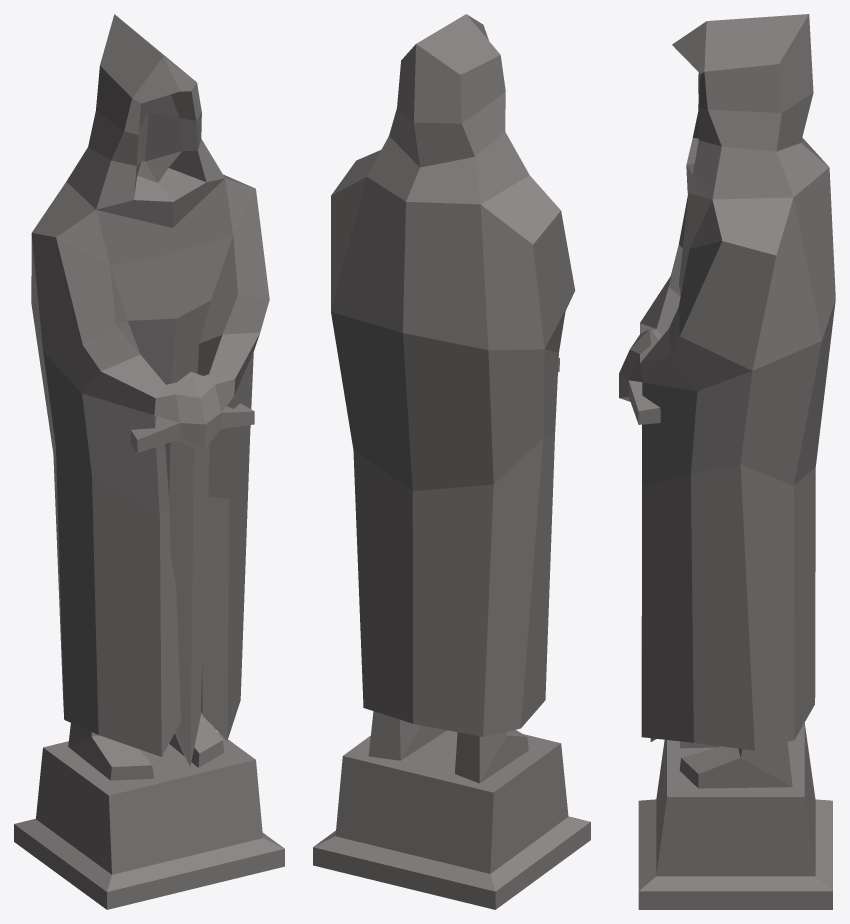
File: statue-knight.glb
3 renders of one model, left to right at view 1: azimuth 30°, elevation 25°; view 2: azimuth 150°, elevation 25°; view 3: azimuth 270°, elevation 25°, orthographic. The views are drawn at different scales.
Visible parts, largest first — view 1: statue-knight; view 2: statue-knight; view 3: statue-knight.
Boxes of the visible parts, box(x1,y1,x2,y2) form: statue-knight: box(14, 14, 284, 909); statue-knight: box(313, 14, 590, 909); statue-knight: box(619, 14, 835, 909).
Bounding box in the file's own units: 1.64 × 6.37 × 1.47.
1 material, 1 textured.
